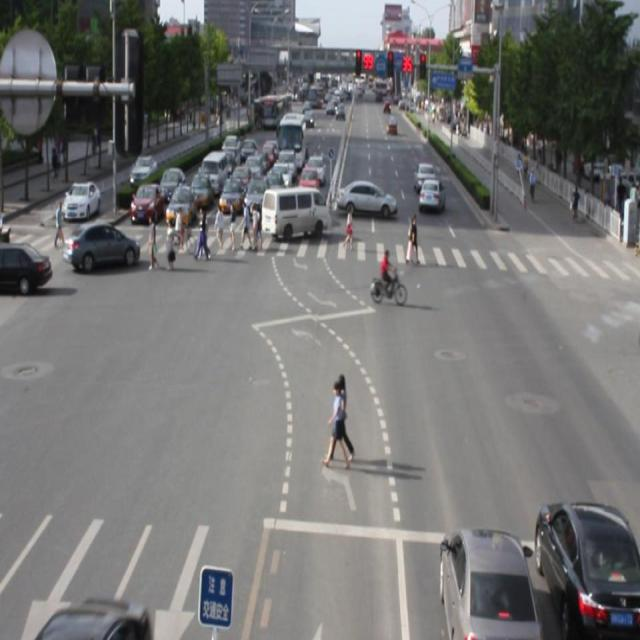car: (534, 498, 640, 640), (436, 527, 537, 640), (42, 591, 146, 640), (62, 219, 140, 272)
